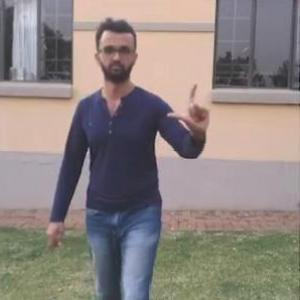land_hand: (159, 74, 213, 138)
